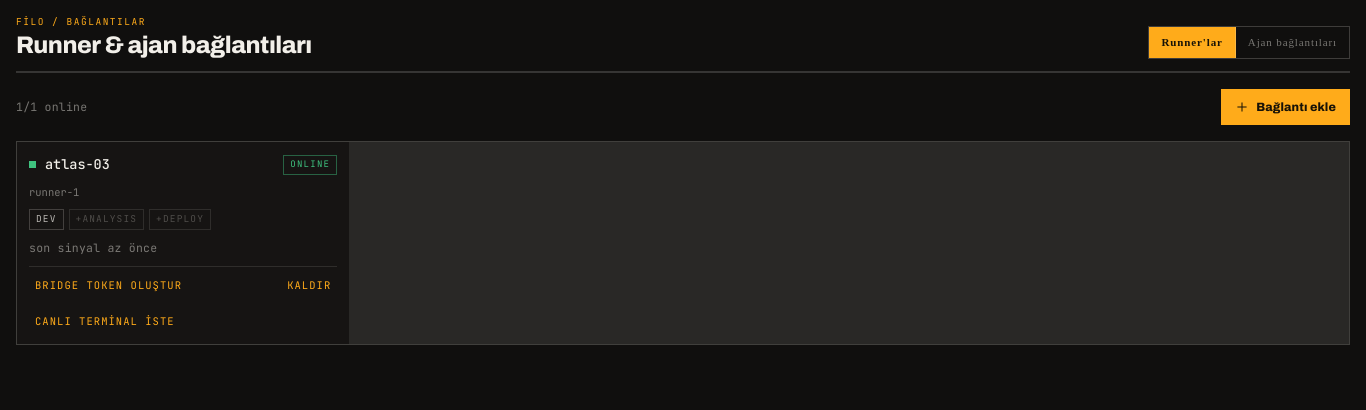
RunnersPage › bridge token olustur tiklanince token uretilir ve tek seferlik gosterilir
Expected: the text "atlas-03" is shown, [45,154,110,175]
Click the button "BRIDGE TOKEN OLUŞTUR" at x=108, y=286, box [29,276,188,295]
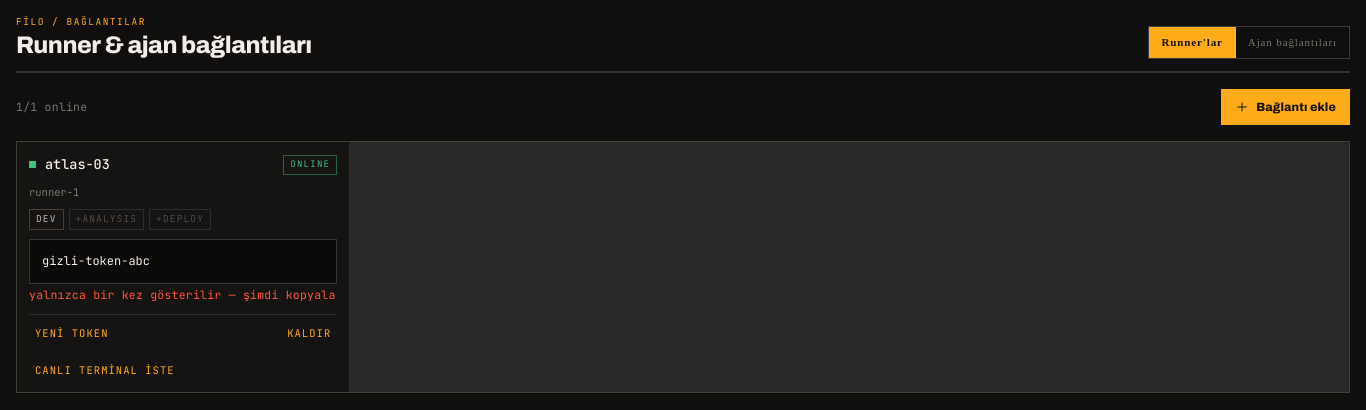
Now the text "gizli-token-abc" is shown, box [42,252,150,271]
